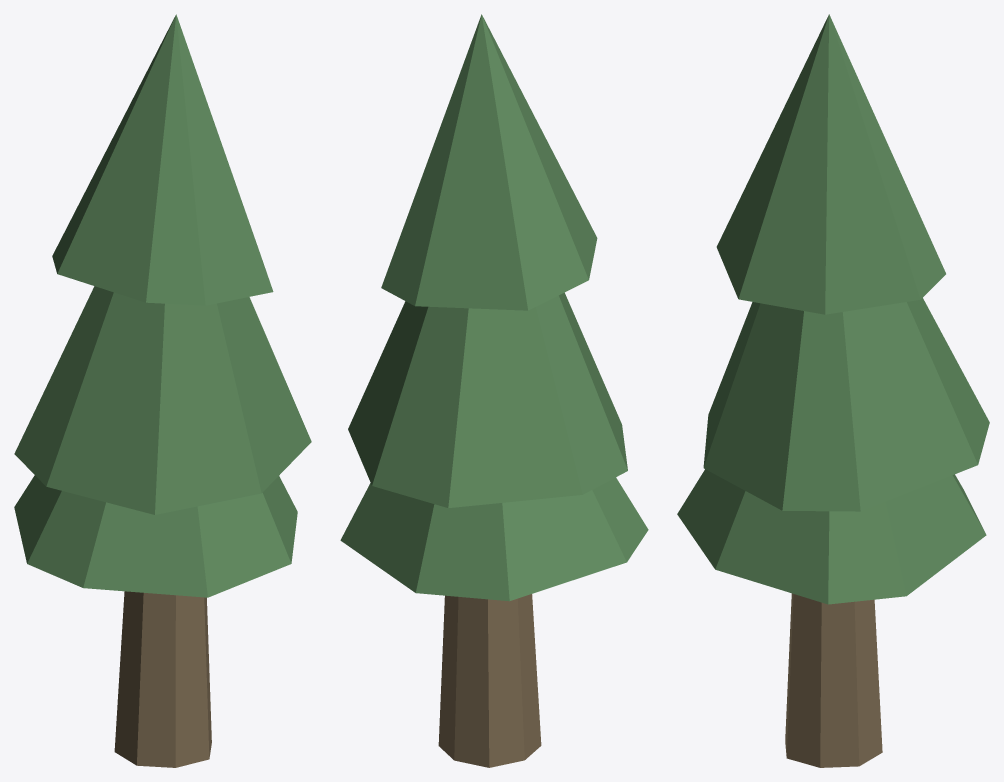
Rendered from Tree2.036.fbx.
The picture shows the model from 3 angles, left to right: view 1: azimuth 30°, elevation 25°; view 2: azimuth 150°, elevation 25°; view 3: azimuth 270°, elevation 25°; orthographic projection.
Visible parts, largest first — view 1: Tree2.036; view 2: Tree2.036; view 3: Tree2.036.
Part boxes in pixels (x1=…): Tree2.036: x1=14, y1=14, x2=311, y2=767; Tree2.036: x1=340, y1=14, x2=648, y2=767; Tree2.036: x1=677, y1=14, x2=989, y2=767.
Size of the model in its own units: 136 by 353 by 136.
